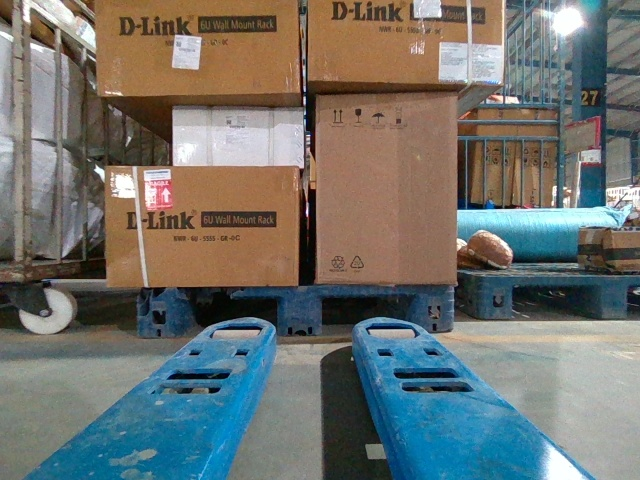block: (139, 284, 188, 337), (277, 282, 322, 337), (413, 281, 457, 334), (476, 270, 515, 317), (596, 273, 629, 320)
front: (140, 283, 455, 335)
hole pallet: (183, 294, 279, 336), (320, 293, 415, 333), (512, 284, 596, 317)
